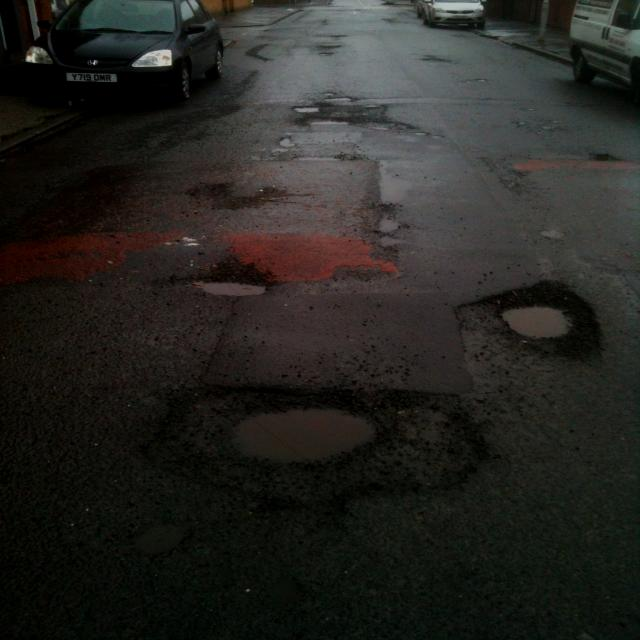Pothole: (131, 377, 491, 509), (446, 278, 609, 367), (264, 92, 410, 162), (165, 262, 279, 306)
